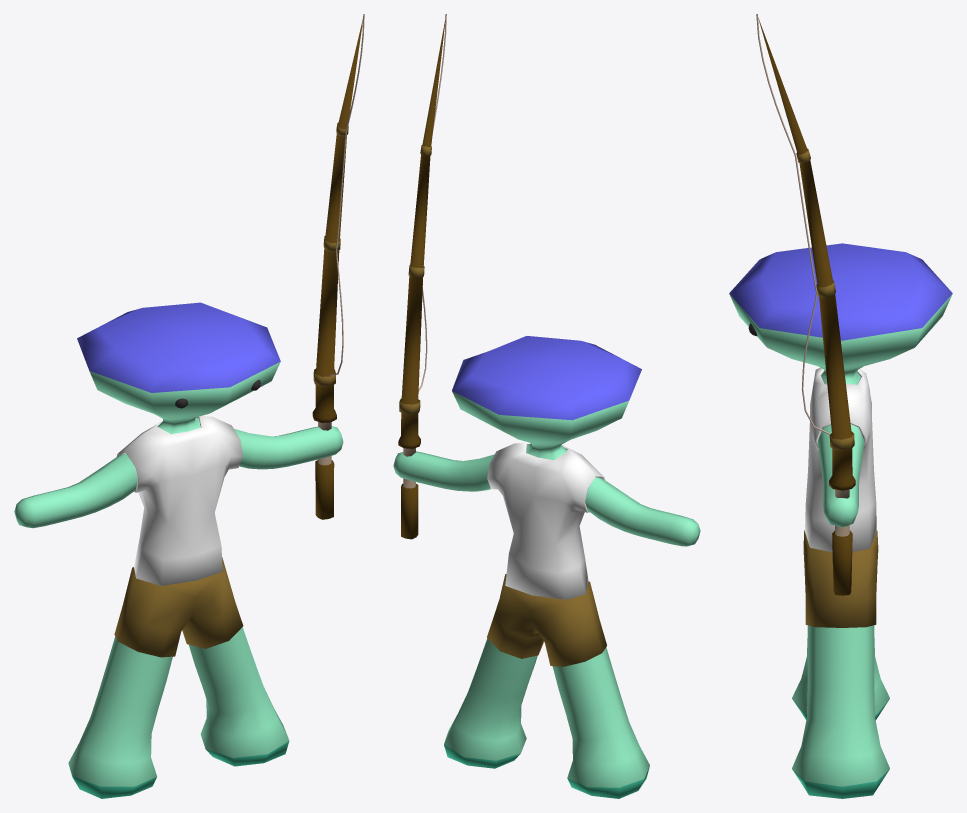
The model's file is TheKid.fbx.
3 views of the same model, side by side, from view 1: azimuth 30°, elevation 25°; view 2: azimuth 150°, elevation 25°; view 3: azimuth 270°, elevation 25° (orthographic). The views are drawn at different scales.
Visible parts, largest first — view 1: KID, KID_TSHIRT, KID_SHORT, fishingrod, FishingRodLine; view 2: KID, KID_TSHIRT, KID_SHORT, fishingrod; view 3: KID, fishingrod, KID_TSHIRT, KID_SHORT, FishingRodLine.
Boxes of the visible parts, x1,y1,x2,y2 form: KID: [14, 302, 343, 798]; KID_TSHIRT: [116, 416, 242, 585]; KID_SHORT: [114, 557, 243, 657]; fishingrod: [312, 19, 362, 519]; FishingRodLine: [329, 14, 364, 375]; KID: [393, 336, 700, 798]; KID_TSHIRT: [487, 442, 604, 599]; KID_SHORT: [487, 574, 606, 666]; fishingrod: [398, 18, 445, 539]; KID: [729, 243, 952, 798]; fishingrod: [758, 18, 855, 595]; KID_TSHIRT: [805, 367, 876, 552]; KID_SHORT: [803, 530, 878, 627]; FishingRodLine: [756, 14, 830, 434].
Bounding box in the file's own units: 6.27 × 3.45 × 13.76.
